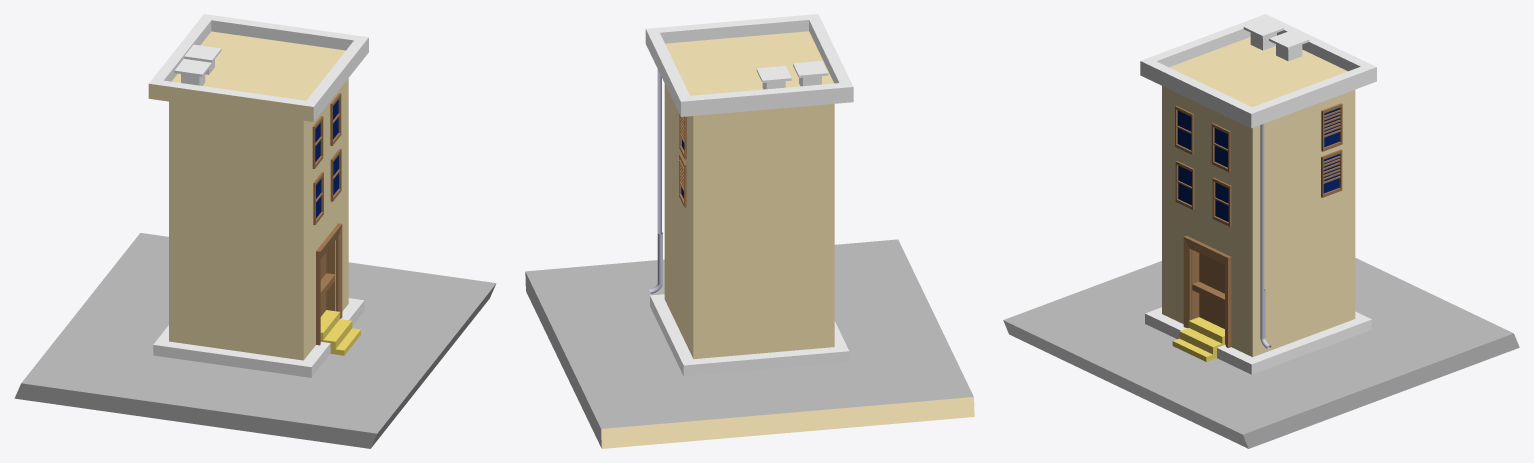
3 views of the same model, side by side, from view 1: azimuth 30°, elevation 25°; view 2: azimuth 150°, elevation 25°; view 3: azimuth 270°, elevation 25° (orthographic). The views are drawn at different scales.
Visible parts, largest first — view 1: Cube; view 2: Cube; view 3: Cube.
Part boxes in pixels (<box>): Cube: <box>14,14,496,448</box>; Cube: <box>525,14,974,448</box>; Cube: <box>1003,14,1519,448</box>.
Size of the model in its own units: 7.52 by 7.55 by 4.6.
